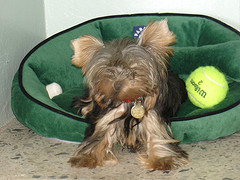tennis ball: (185, 64, 230, 111)
